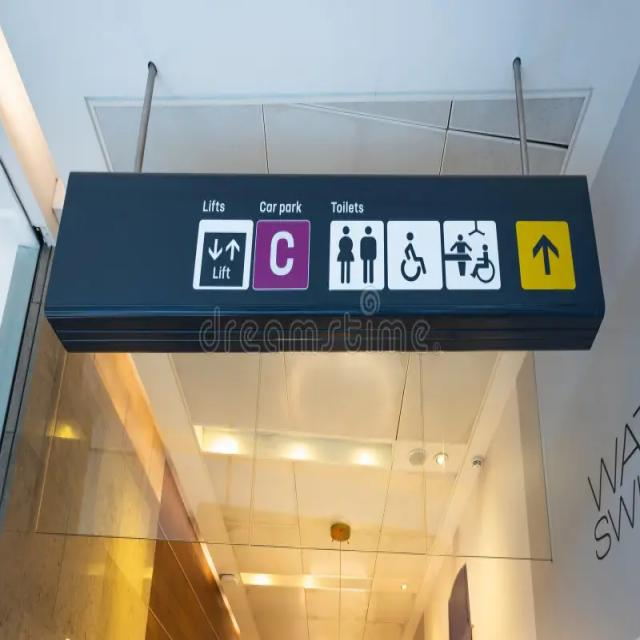lift_icon: (207, 233, 242, 284)
toilet_icon: (332, 222, 434, 287)
